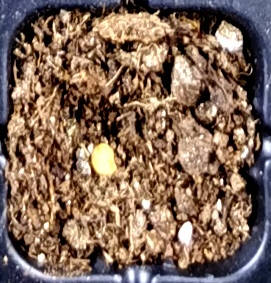chilli seed: (90, 143, 115, 175)
